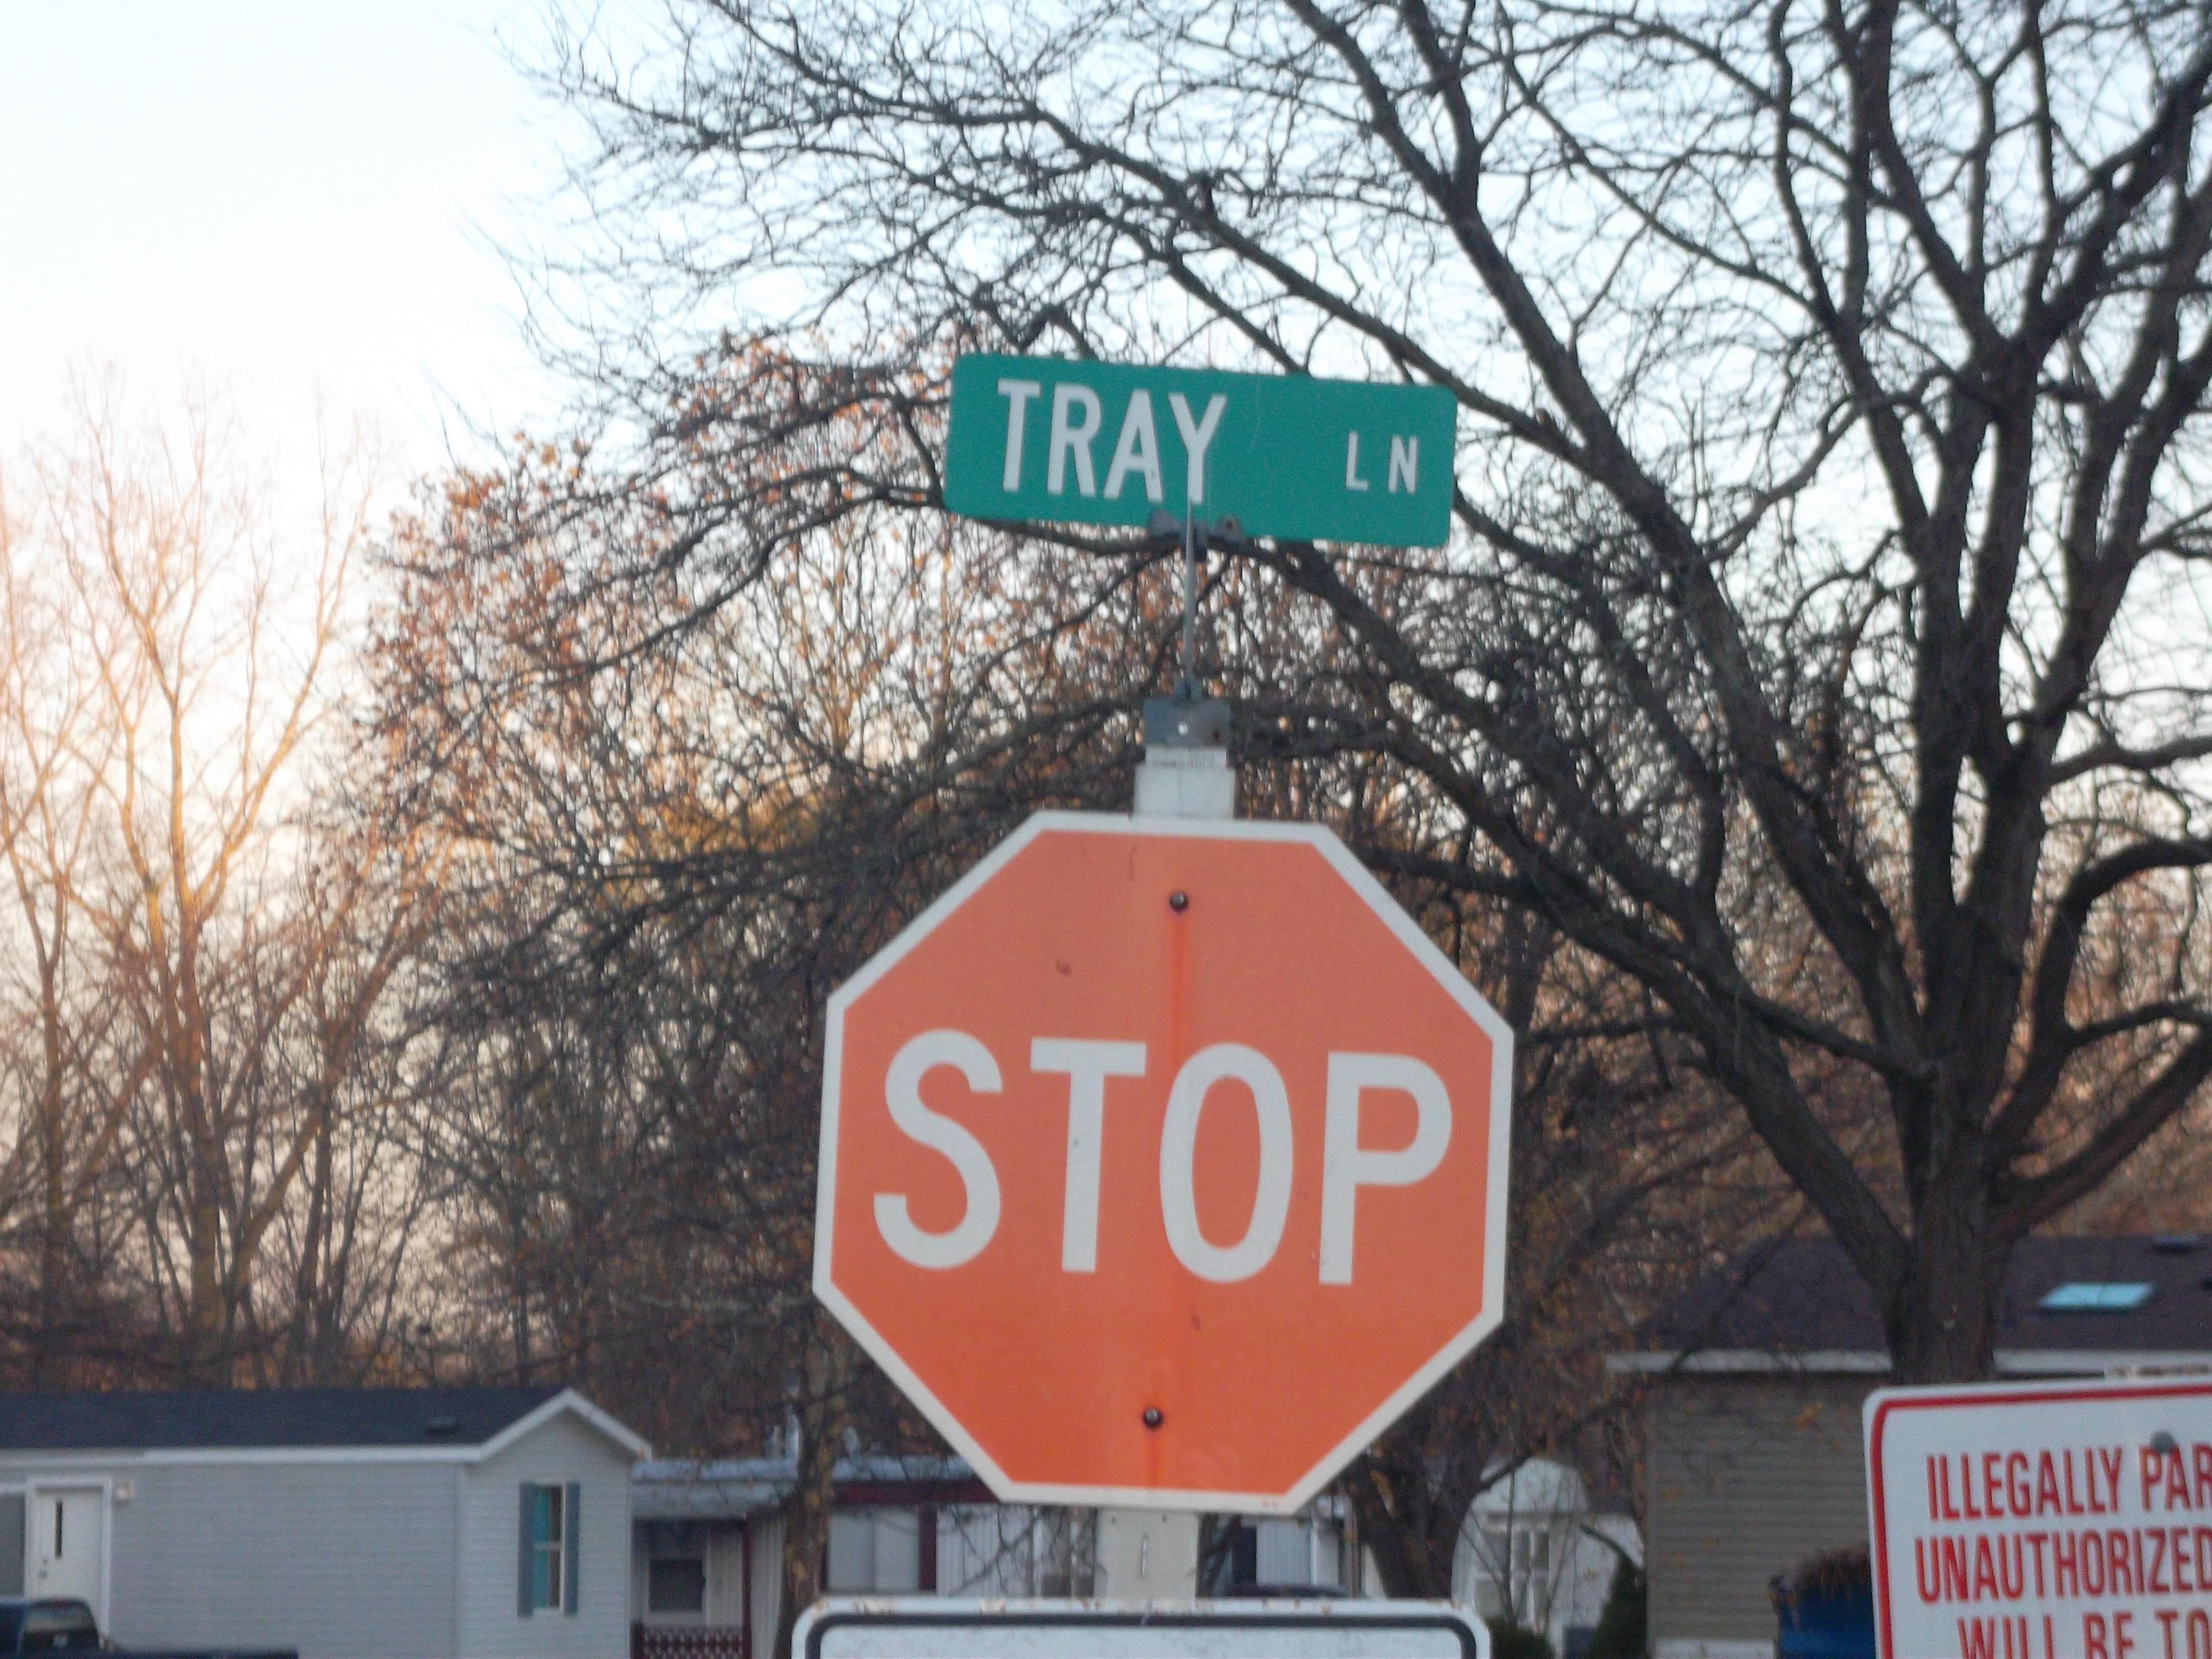stop: (789, 784, 1541, 1532)
